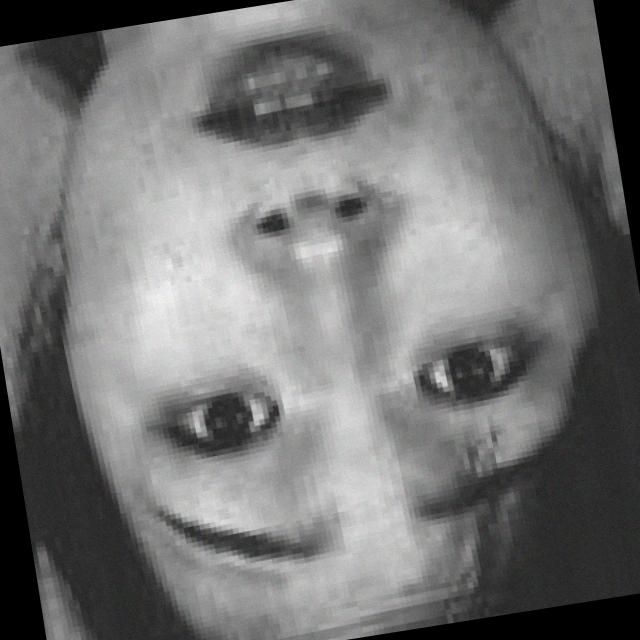fear: (29, 0, 616, 623)
